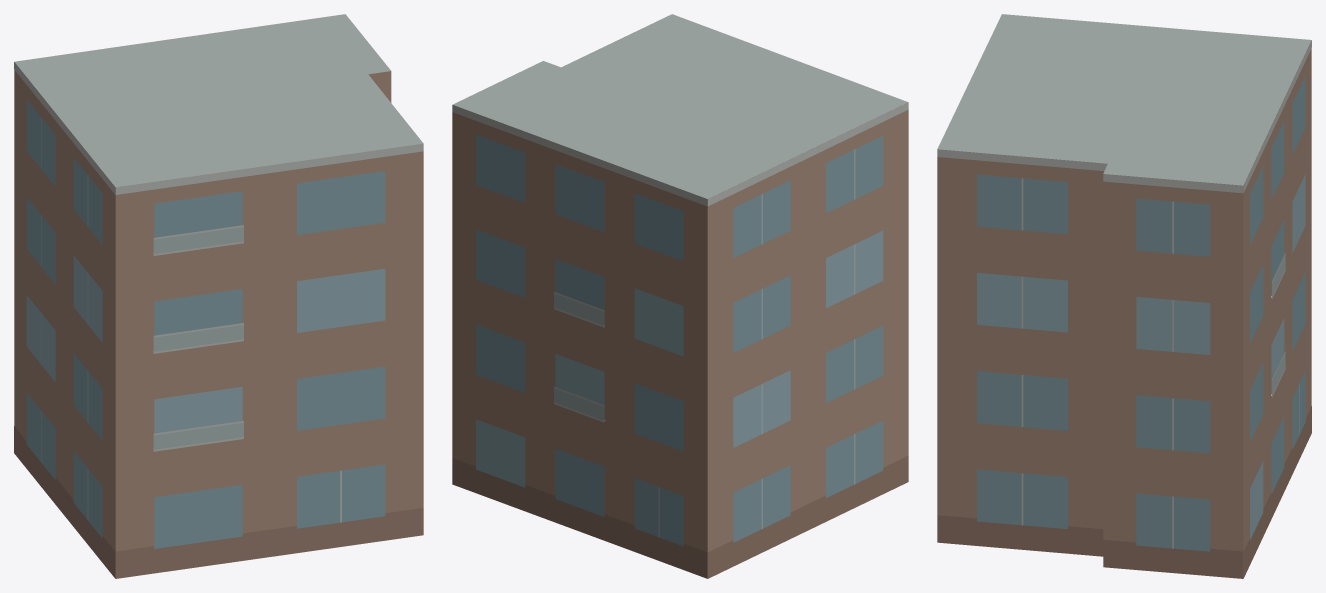
Rendered from survey-upis-32960364.glb.
3 renders of one model, left to right at view 1: azimuth 30°, elevation 25°; view 2: azimuth 150°, elevation 25°; view 3: azimuth 270°, elevation 25°, orthographic. The views are drawn at different scales.
Visible parts, largest first — view 1: survey-upis-32960364.tmp; view 2: survey-upis-32960364.tmp; view 3: survey-upis-32960364.tmp.
Boxes of the visible parts, x1,y1,x2,y2 form: survey-upis-32960364.tmp: (14, 14, 423, 578); survey-upis-32960364.tmp: (452, 14, 908, 578); survey-upis-32960364.tmp: (937, 14, 1311, 578).
Bounding box in the file's own units: 11.76 × 12.55 × 10.84.
